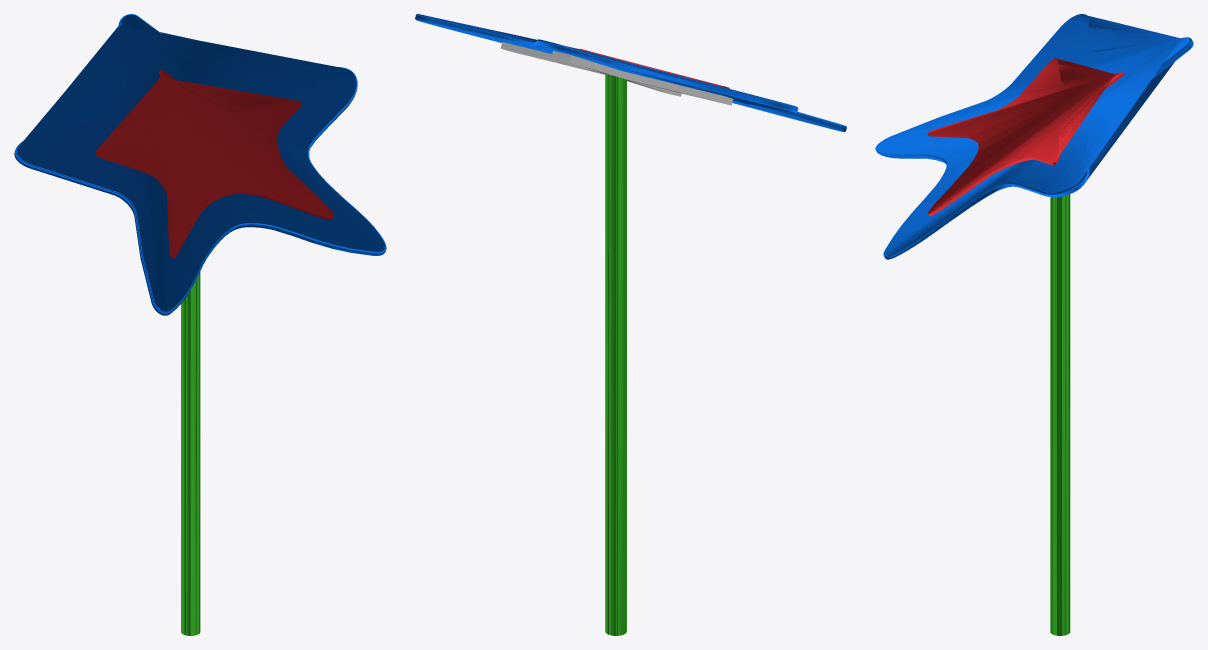
3 renders of one model, left to right at view 1: azimuth 30°, elevation 25°; view 2: azimuth 150°, elevation 25°; view 3: azimuth 270°, elevation 25°, orthographic. The views are drawn at different scales.
Parts seen in each view (by area): view 1: D_72; view 2: D_72; view 3: D_72.
Part boxes in pixels (left/top/right/bottom): D_72: left=14, top=14, right=386, bottom=635; D_72: left=415, top=14, right=846, bottom=635; D_72: left=875, top=14, right=1193, bottom=635.
Size of the model in its own units: 121 by 195 by 95.1.
